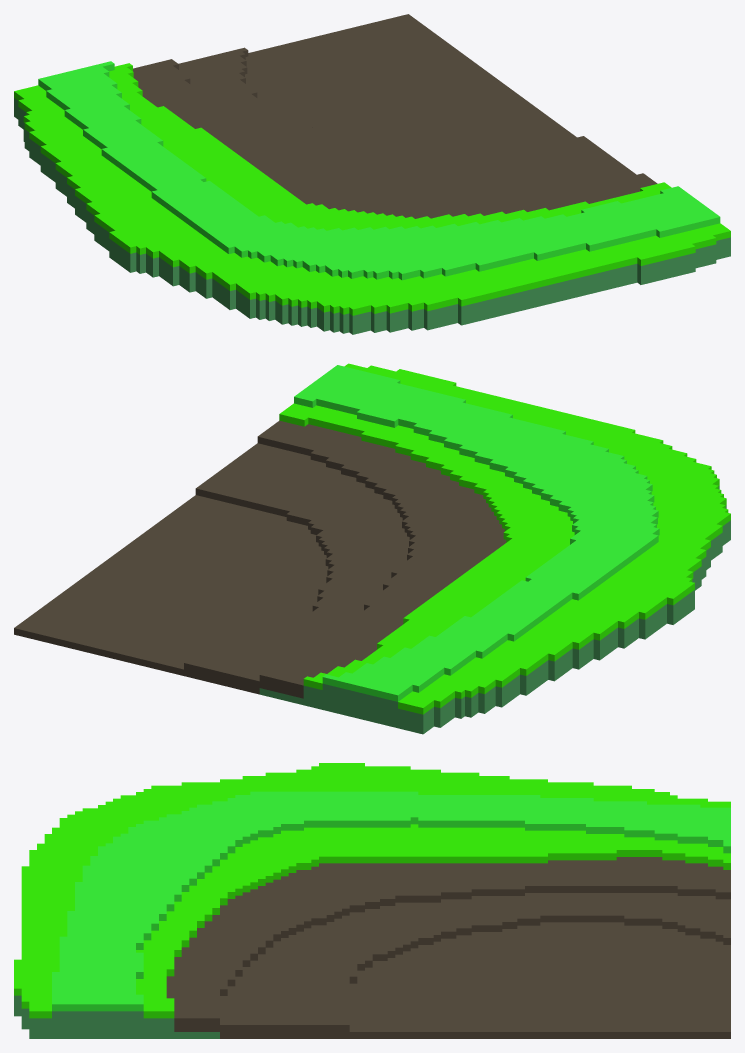
The model's file is TerrainPieces-10.obj.
The picture shows the model from 3 angles, top to bottom: view 1: azimuth 30°, elevation 25°; view 2: azimuth 150°, elevation 25°; view 3: azimuth 270°, elevation 25°; orthographic projection. The views are drawn at different scales.
Parts seen in each view (by area): view 1: TerrainPieces-10; view 2: TerrainPieces-10; view 3: TerrainPieces-10.
Part boxes in pixels (bbox=[...]): TerrainPieces-10: bbox=[14, 14, 730, 334]; TerrainPieces-10: bbox=[14, 363, 730, 734]; TerrainPieces-10: bbox=[14, 763, 730, 1038].
Size of the model in its own units: 77 by 5 by 94.
1 material, 1 textured.
